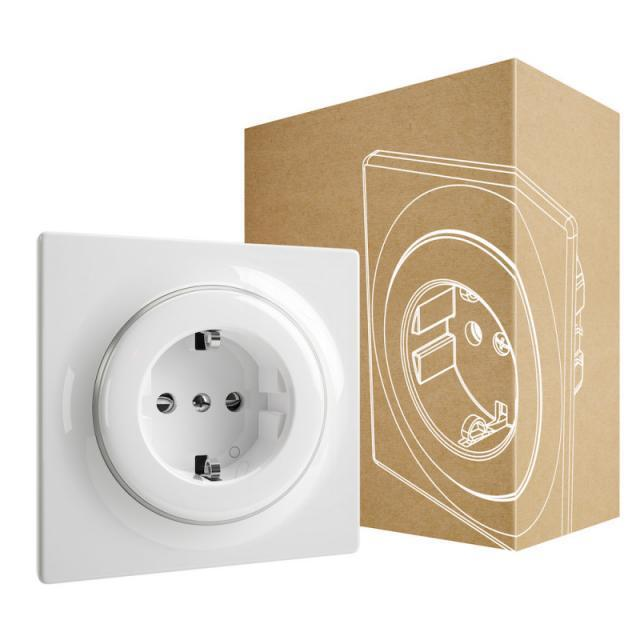typeb: (37, 234, 385, 558)
